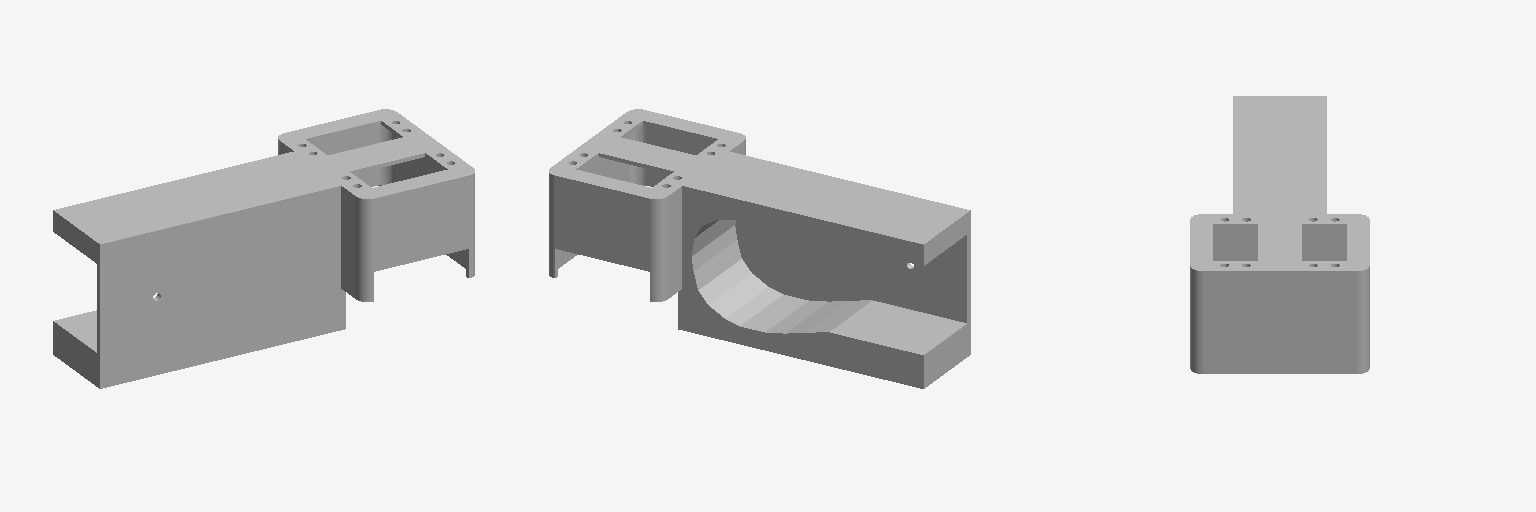
The model's file is right_gauntlet.obj.
3 views of the same model, side by side, from view 1: azimuth 30°, elevation 25°; view 2: azimuth 150°, elevation 25°; view 3: azimuth 270°, elevation 25° (orthographic).
Visible parts, largest first — view 1: mesh1, mesh4, mesh11, mesh52, mesh32, mesh8, mesh5, mesh24, mesh33, mesh18, mesh16; view 2: mesh46, mesh47, mesh4, mesh23, mesh52, mesh33, mesh32, mesh30, mesh31, mesh12, mesh42, mesh44 (+10 smaller); view 3: mesh17, mesh4, mesh52, mesh3, mesh16, mesh20, mesh6, mesh28.
Part boxes in pixels (x1,y1,x2,y2): mesh1: (100,186,345,388); mesh4: (54,150,345,243); mesh11: (374,176,468,271); mesh52: (278,109,474,198); mesh32: (53,210,99,388); mesh8: (356,197,373,301); mesh5: (341,186,355,298); mesh24: (310,126,377,186); mesh33: (54,310,96,352); mesh18: (395,135,465,268); mesh16: (469,173,474,277); mesh46: (678,186,923,388); mesh47: (735,221,966,322); mesh4: (678,150,969,244); mesh23: (555,176,649,271); mesh52: (549,109,745,198); mesh33: (830,301,966,354); mesh32: (924,210,970,388); mesh30: (650,197,667,301); mesh31: (668,187,681,298); mesh12: (646,126,713,186); mesh42: (709,274,767,318); mesh44: (740,294,807,331); mesh17: (1204,271,1355,373); mesh4: (1233,96,1326,215); mesh52: (1190,214,1369,270); mesh3: (1233,228,1326,260); mesh16: (1190,266,1203,373); mesh20: (1356,266,1369,373); mesh6: (1213,228,1232,260); mesh28: (1327,228,1346,260).
Bounding box in the file's own units: 0.1895 × 0.073 × 0.082.